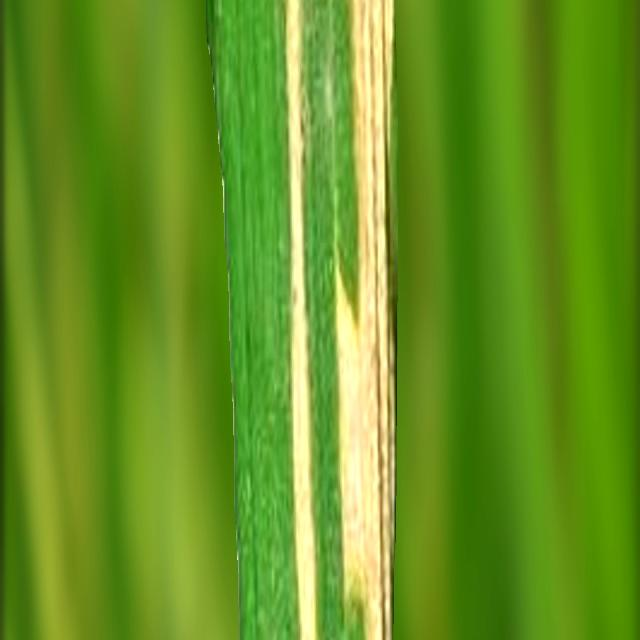BLB: (335, 0, 395, 640), (286, 0, 319, 640)
